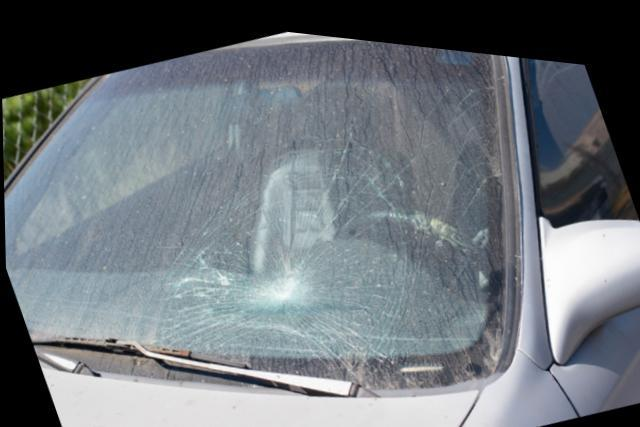glass shatter: (3, 30, 506, 381)
